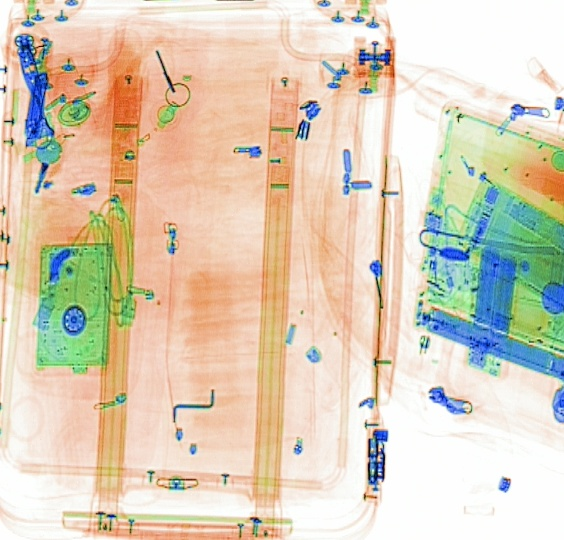powerbank: (461, 240, 522, 380)
pressure: (33, 49, 97, 146)
